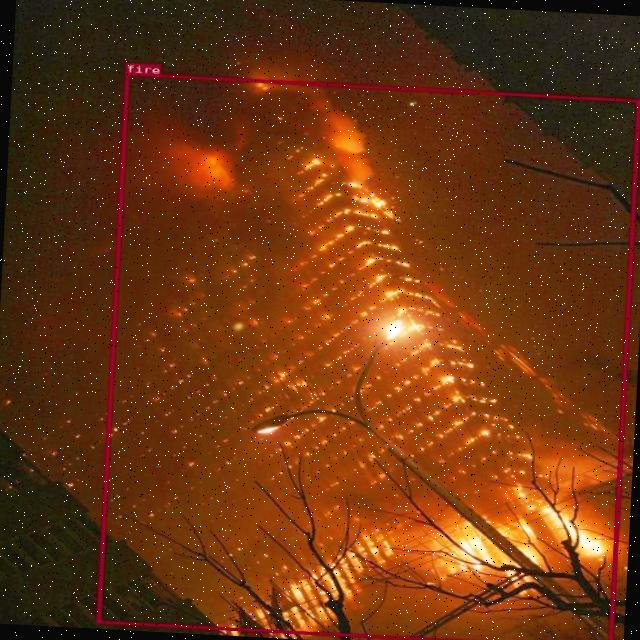fire: (96, 72, 640, 640)
